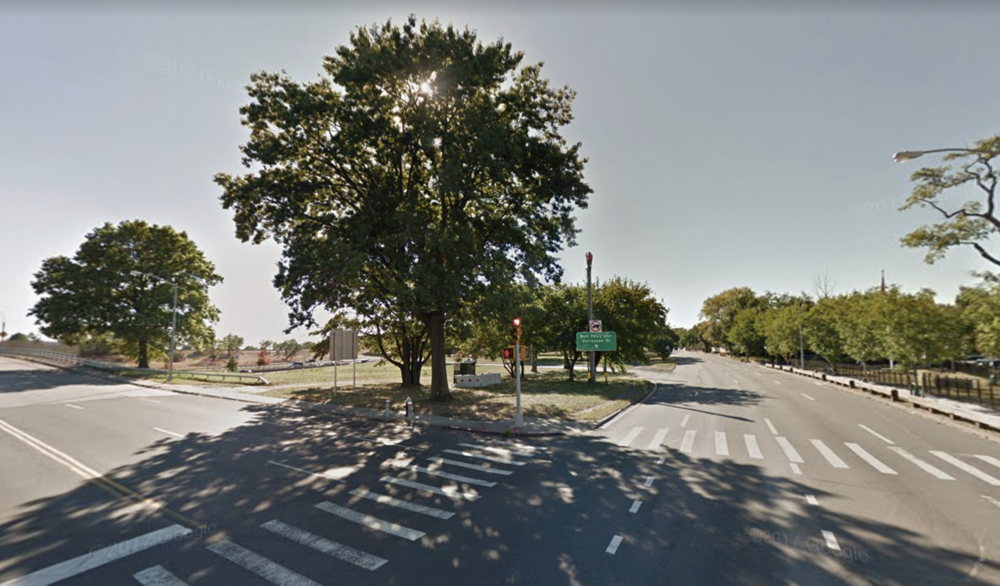tree: (208, 9, 596, 407), (25, 215, 226, 376)
